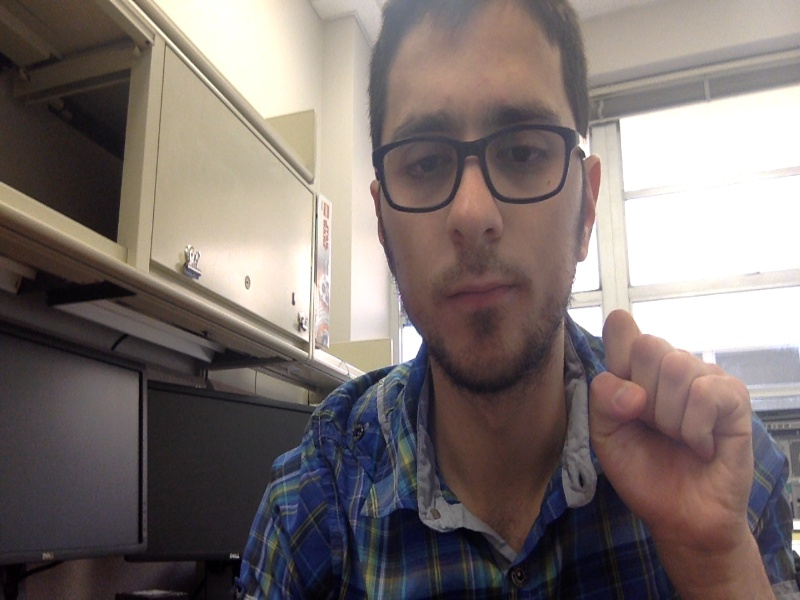0-hand: (586, 308, 753, 550)
